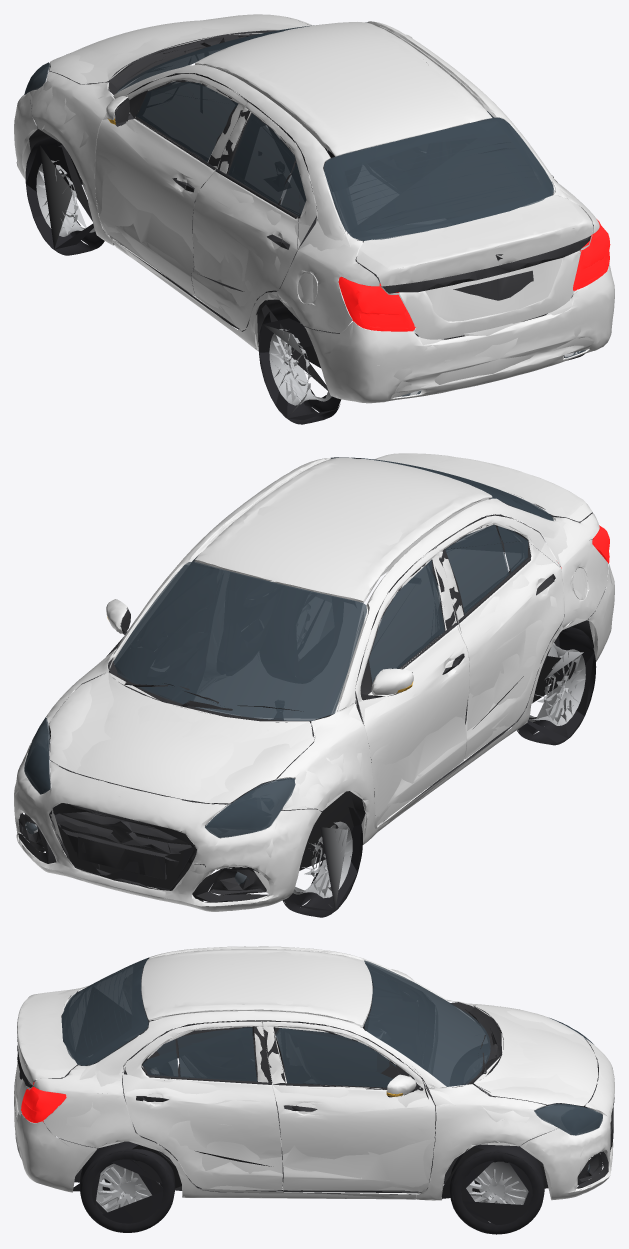
File: dzire.glb
The picture shows the model from 3 angles, top to bottom: view 1: azimuth 30°, elevation 25°; view 2: azimuth 150°, elevation 25°; view 3: azimuth 270°, elevation 25°; orthographic projection. The views are drawn at different scales.
Parts seen in each view (by area): view 1: lod0_shell, lod1_shell, wheel_rl, wheel_fl; view 2: lod0_shell, lod1_shell, wheel_rl, wheel_fl; view 3: lod0_shell, lod1_shell, wheel_rr, wheel_fr.
Boxes of the visible parts, <box> form: lod0_shell: <box>14,14,614,403</box>; lod1_shell: <box>15,16,609,420</box>; wheel_rl: <box>258,306,341,424</box>; wheel_fl: <box>25,137,104,255</box>; lod0_shell: <box>14,453,614,911</box>; lod1_shell: <box>15,457,612,910</box>; wheel_rl: <box>517,627,596,745</box>; wheel_fl: <box>282,807,362,917</box>; lod0_shell: <box>14,946,614,1200</box>; lod1_shell: <box>14,948,612,1230</box>; wheel_rr: <box>80,1141,175,1232</box>; wheel_fr: <box>449,1144,544,1234</box>.
Size of the model in its own units: 1.85 by 1.51 by 4.
